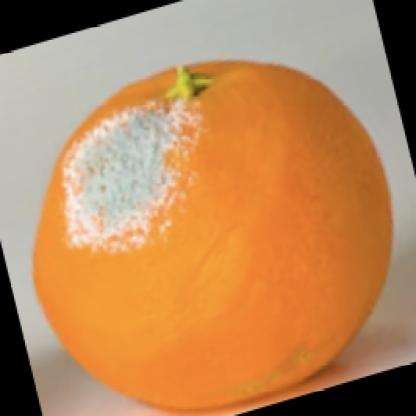rotten: (34, 60, 394, 408)
